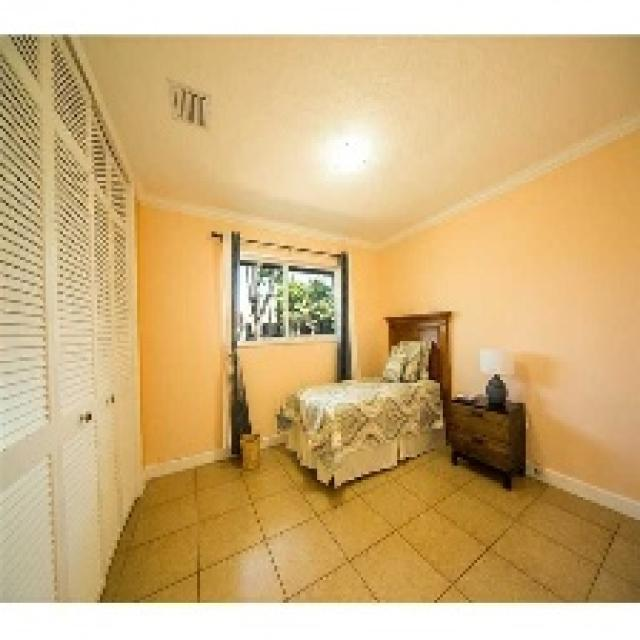Bed: (274, 308, 452, 488)
